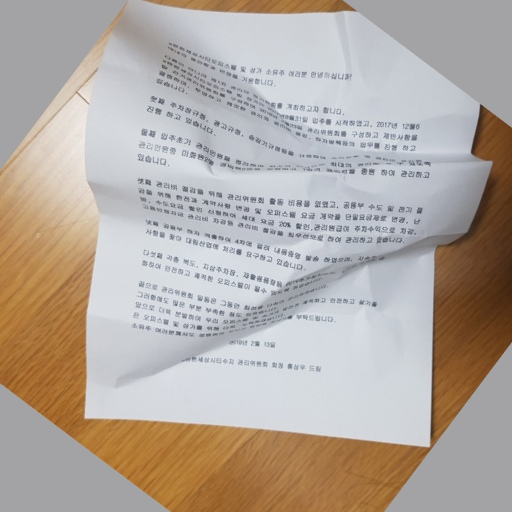Paper_3: (82, 2, 498, 471)
